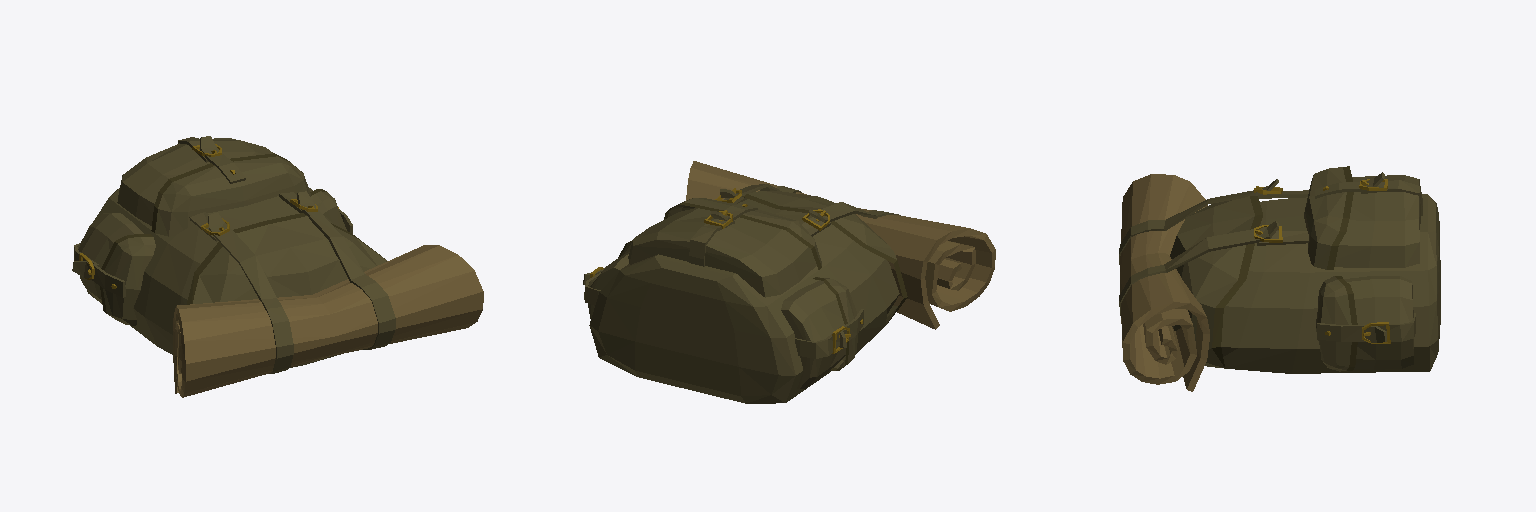
3 renders of one model, left to right at view 1: azimuth 30°, elevation 25°; view 2: azimuth 150°, elevation 25°; view 3: azimuth 270°, elevation 25°, orthographic.
Visible parts, largest first — view 1: Backpack; view 2: Backpack; view 3: Backpack.
Boxes of the visible parts, <box> form: Backpack: <box>72,136,483,397</box>; Backpack: <box>583,161,995,403</box>; Backpack: <box>1119,166,1440,391</box>.
Size of the model in its own units: 3.34 by 1.77 by 3.12.
Materials: 4 (4 with a texture image).